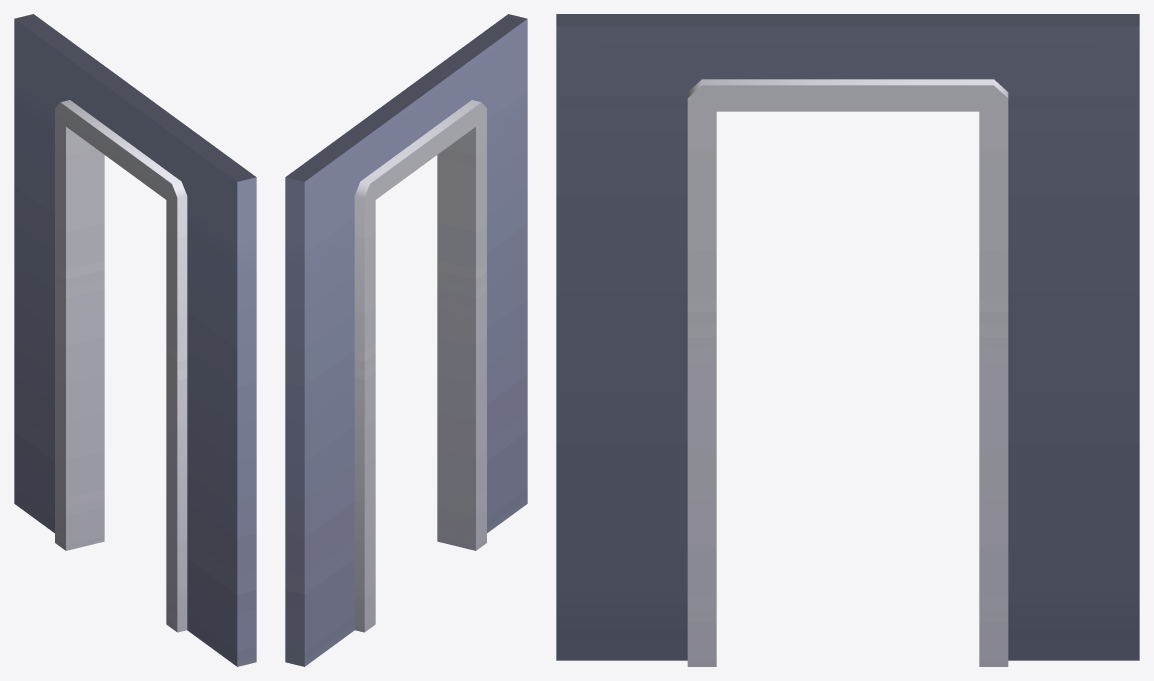
Rendered from wall-doorway-square.glb.
The picture shows the model from 3 angles, left to right: view 1: azimuth 30°, elevation 25°; view 2: azimuth 150°, elevation 25°; view 3: azimuth 270°, elevation 25°; orthographic projection. The views are drawn at different scales.
Visible parts, largest first — view 1: wall-doorway-square; view 2: wall-doorway-square; view 3: wall-doorway-square.
Boxes of the visible parts, left/top/right/bottom form: wall-doorway-square: left=14, top=14, right=256, bottom=666; wall-doorway-square: left=285, top=14, right=527, bottom=666; wall-doorway-square: left=556, top=14, right=1139, bottom=666.
Bounding box in the file's own units: 0.2001 × 2.4 × 2.
Materials: 1 (1 with a texture image).
